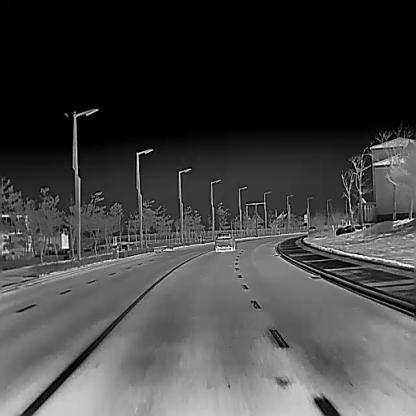car: (214, 231, 235, 250), (308, 224, 316, 232)
